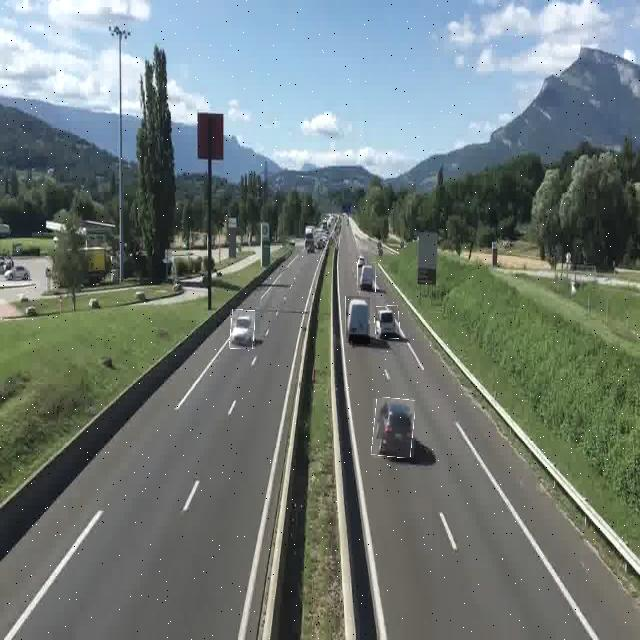Car: (373, 398, 414, 458), (345, 296, 370, 344), (230, 310, 255, 349), (375, 306, 399, 339), (358, 262, 376, 292)
